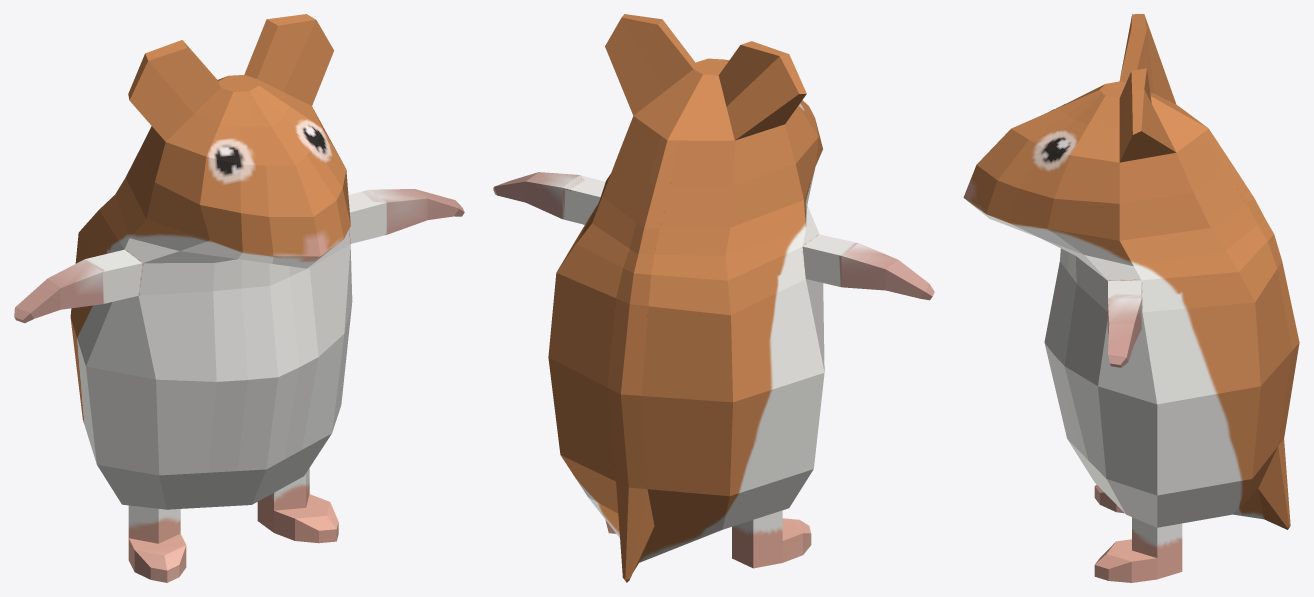
The model's file is hamster_mesh.fbx.
3 renders of one model, left to right at view 1: azimuth 30°, elevation 25°; view 2: azimuth 150°, elevation 25°; view 3: azimuth 270°, elevation 25°, orthographic. The views are drawn at different scales.
Parts seen in each view (by area): view 1: hamster_mesh; view 2: hamster_mesh; view 3: hamster_mesh.
Part boxes in pixels (box(x1,y1,x2,y2)): hamster_mesh: box(14, 14, 464, 582); hamster_mesh: box(493, 14, 934, 582); hamster_mesh: box(963, 14, 1299, 582).
Bounding box in the file's own units: 128 × 140 × 87.22.
1 material, 1 textured.
